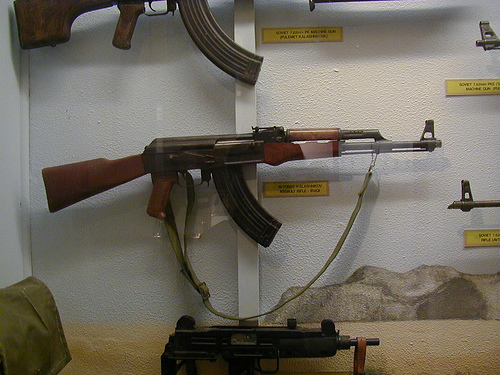rifle: (28, 127, 443, 234)
